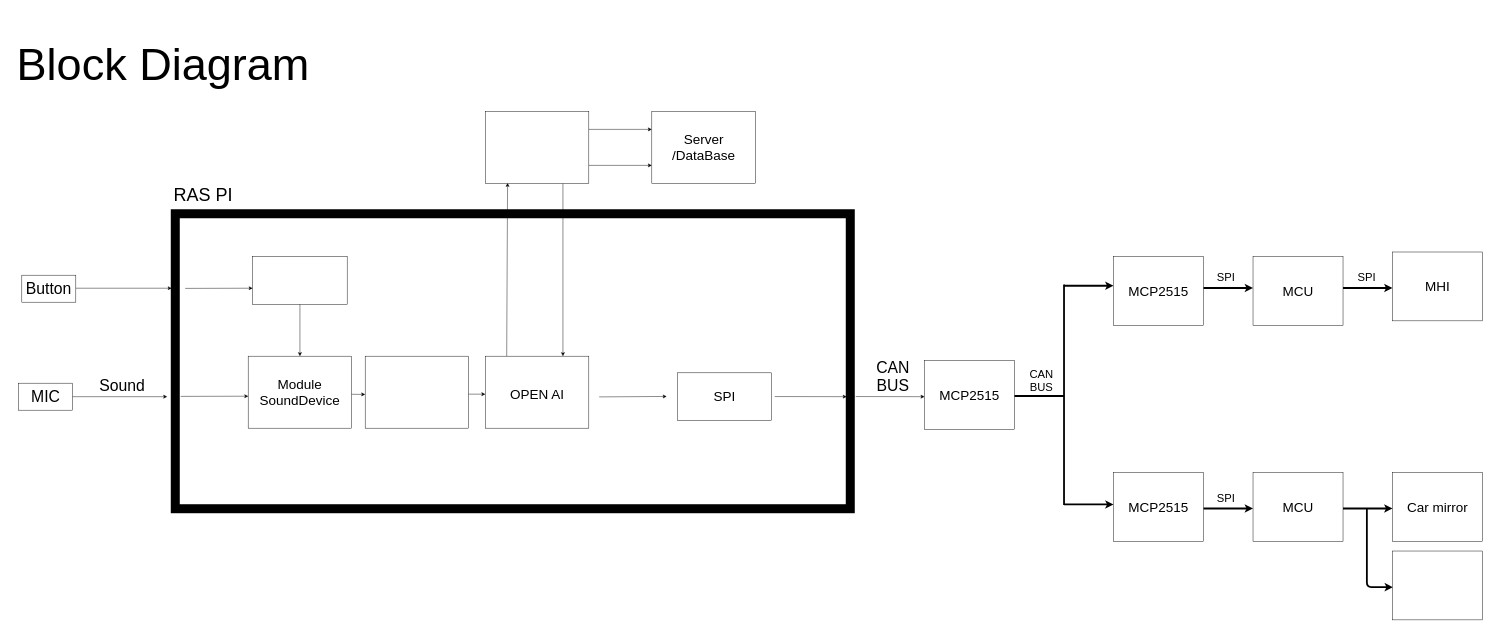
Some shapes in this 1490 by 628 pixel diagram are drawn without their labels. Here are the shapes that lost their labels. From the top down, the box of each, then its label:
(485, 111, 589, 183): API Request
(252, 256, 347, 304): Button Interface
(365, 356, 469, 428): Vosk
(1392, 551, 1483, 620): Air
